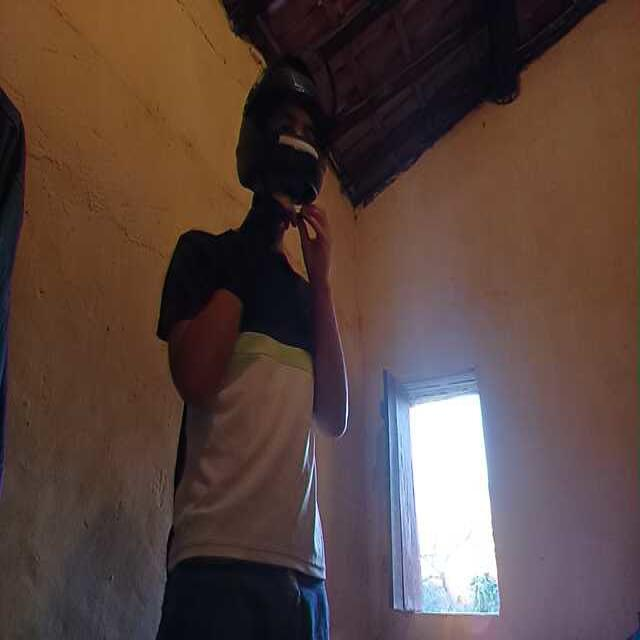capacete: (229, 70, 329, 207)
pessoa: (158, 98, 336, 640)
